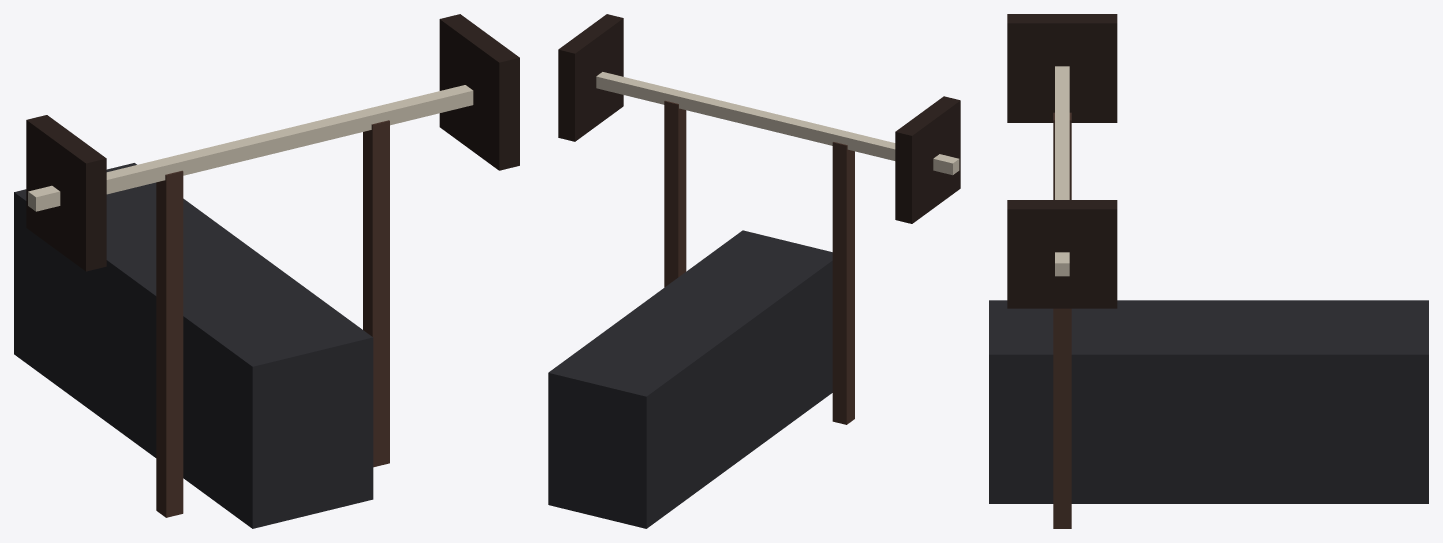
File: weights.glb
3 views of the same model, side by side, from view 1: azimuth 30°, elevation 25°; view 2: azimuth 150°, elevation 25°; view 3: azimuth 270°, elevation 25° (orthographic). The views are drawn at different scales.
Parts seen in each view (by area): view 1: Box1, Box6, Box5, Box3, Box2, Box4; view 2: Box1, Box6, Box5, Box3, Box2, Box4; view 3: Box1, Box3, Box5, Box4, Box2.
Part boxes in pixels (x1,y1,x2,y2): Box1: (14, 163, 373, 528); Box6: (156, 170, 183, 517); Box5: (26, 115, 106, 271); Box3: (439, 14, 519, 170); Box2: (28, 85, 473, 211); Box4: (363, 120, 389, 467); Box1: (548, 230, 832, 528); Box6: (832, 142, 854, 424); Box5: (895, 96, 960, 223); Box3: (558, 14, 623, 141); Box2: (596, 72, 959, 175); Box4: (664, 100, 686, 287); Box1: (989, 300, 1428, 503); Box3: (1007, 200, 1117, 308); Box5: (1007, 14, 1117, 122); Box4: (1053, 308, 1071, 528); Box2: (1055, 66, 1069, 276).
Bounding box in the file's own units: 1.4 × 1.1 × 1.2.
